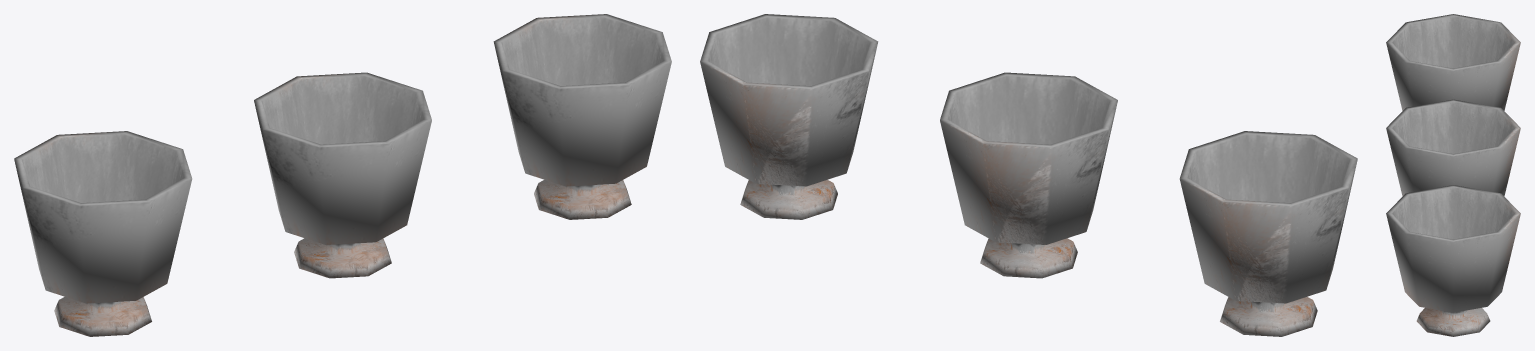
Rendered from God_cup.fbx.
The picture shows the model from 3 angles, left to right: view 1: azimuth 30°, elevation 25°; view 2: azimuth 150°, elevation 25°; view 3: azimuth 270°, elevation 25°; orthographic projection. The views are drawn at different scales.
Visible parts, largest first — view 1: Cup; view 2: Cup; view 3: Cup.
Part boxes in pixels (<box>): Cup: <box>14,14,671,336</box>; Cup: <box>700,14,1357,336</box>; Cup: <box>1386,14,1520,336</box>.
Size of the model in its own units: 27.5 by 6.07 by 6.88.
Materials: 1 (1 with a texture image).
